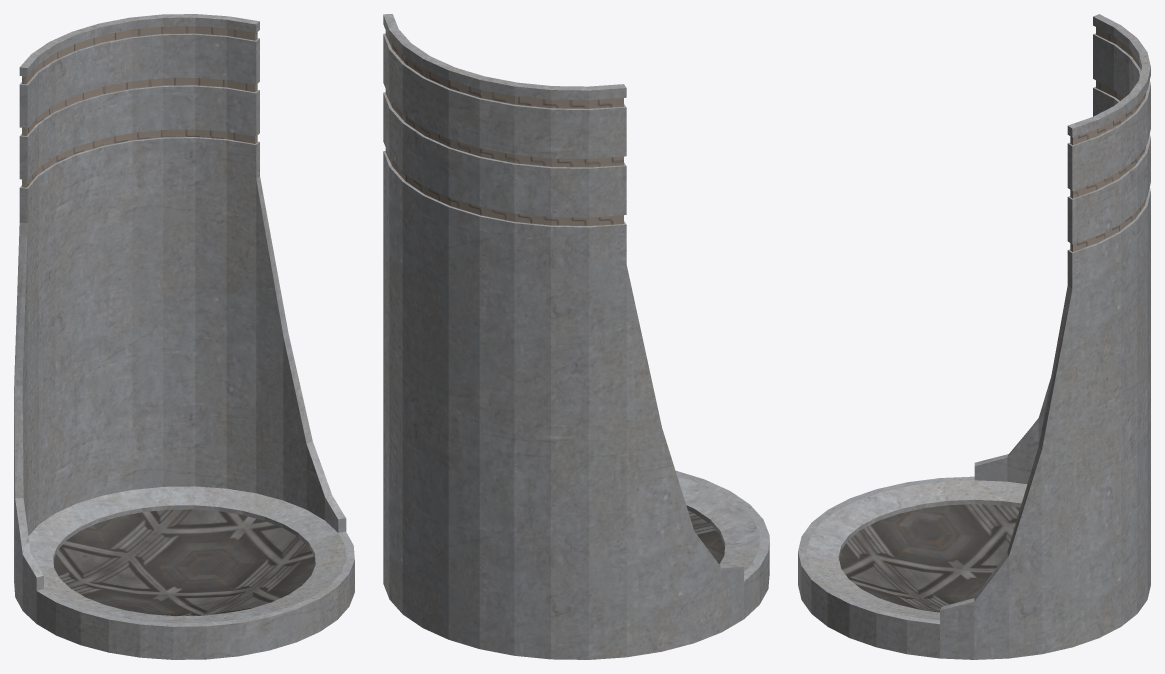
Rendered from strange1.obj.
3 views of the same model, side by side, from view 1: azimuth 30°, elevation 25°; view 2: azimuth 150°, elevation 25°; view 3: azimuth 270°, elevation 25° (orthographic). The views are drawn at different scales.
Parts seen in each view (by area): view 1: Cylinder_Cylinder.001; view 2: Cylinder_Cylinder.001; view 3: Cylinder_Cylinder.001.
Part boxes in pixels (bbox=[...]): Cylinder_Cylinder.001: bbox=[14, 14, 354, 659]; Cylinder_Cylinder.001: bbox=[383, 14, 769, 659]; Cylinder_Cylinder.001: bbox=[798, 14, 1150, 659].
Bounding box in the file's own units: 100 × 162 × 100.
